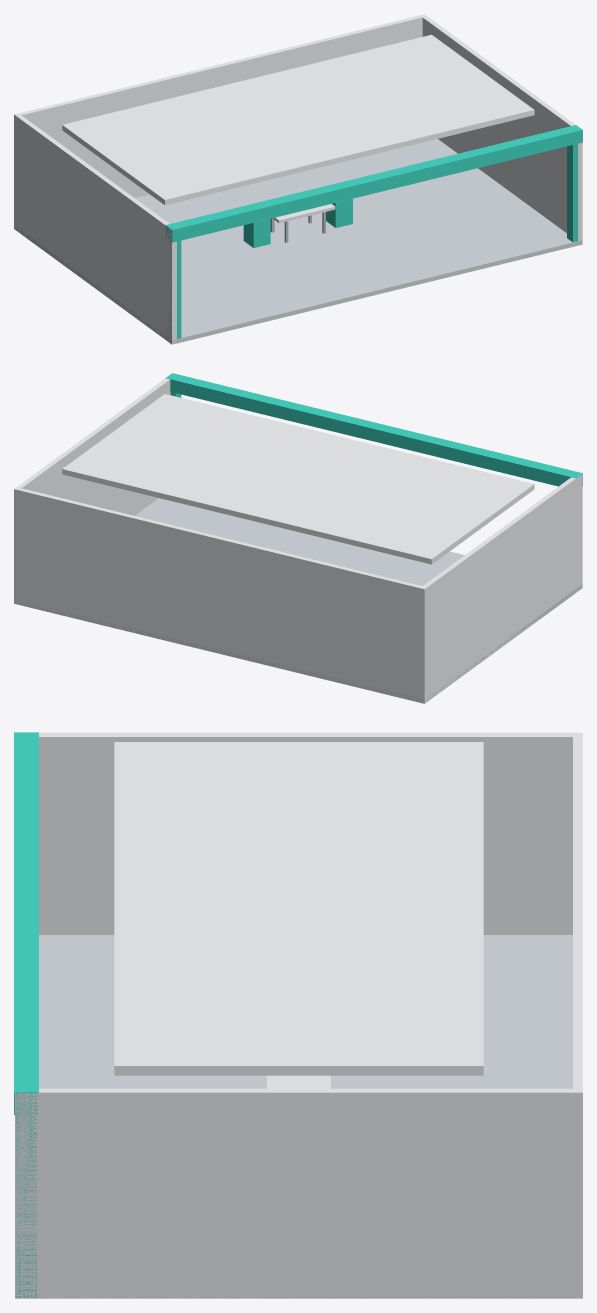
The picture shows the model from 3 angles, top to bottom: view 1: azimuth 30°, elevation 25°; view 2: azimuth 150°, elevation 25°; view 3: azimuth 270°, elevation 25°; orthographic projection. The views are drawn at different scales.
Visible parts, largest first — view 1: Exhibition Booth Concept; view 2: Exhibition Booth Concept; view 3: Exhibition Booth Concept.
Boxes of the visible parts, left/top/right/bottom form: Exhibition Booth Concept: left=14, top=14, right=582, bottom=344; Exhibition Booth Concept: left=14, top=373, right=582, bottom=703; Exhibition Booth Concept: left=14, top=732, right=582, bottom=1298.
Bounding box in the file's own units: 12 × 3.34 × 8.01.
